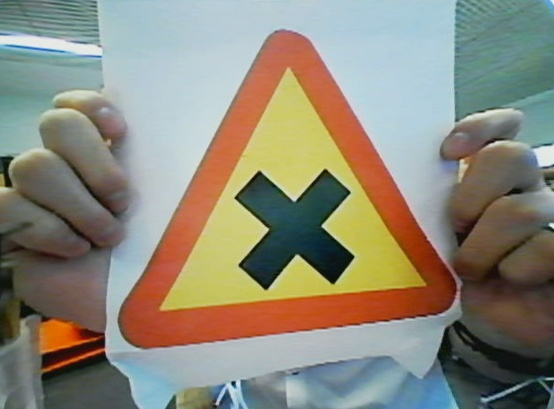junction: (103, 19, 469, 359)
